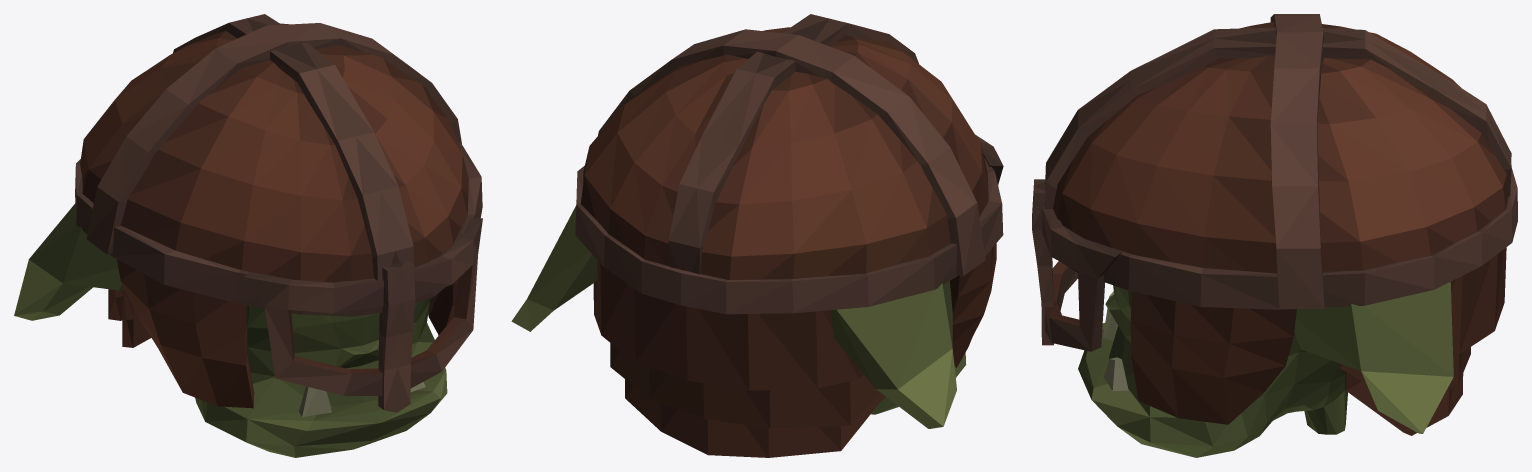
Rendered from Goblin_Green_Head_Helm_1.fbx.
3 renders of one model, left to right at view 1: azimuth 30°, elevation 25°; view 2: azimuth 150°, elevation 25°; view 3: azimuth 270°, elevation 25°, orthographic. The views are drawn at different scales.
Parts seen in each view (by area): view 1: Goblin_Green_Head_Helm_1; view 2: Goblin_Green_Head_Helm_1; view 3: Goblin_Green_Head_Helm_1.
Part boxes in pixels (box(x1,y1,x2,y2)): Goblin_Green_Head_Helm_1: box(14, 14, 482, 457); Goblin_Green_Head_Helm_1: box(511, 14, 1003, 457); Goblin_Green_Head_Helm_1: box(1032, 14, 1517, 457).
Size of the model in its own units: 1.39 by 1.23 by 1.33.
